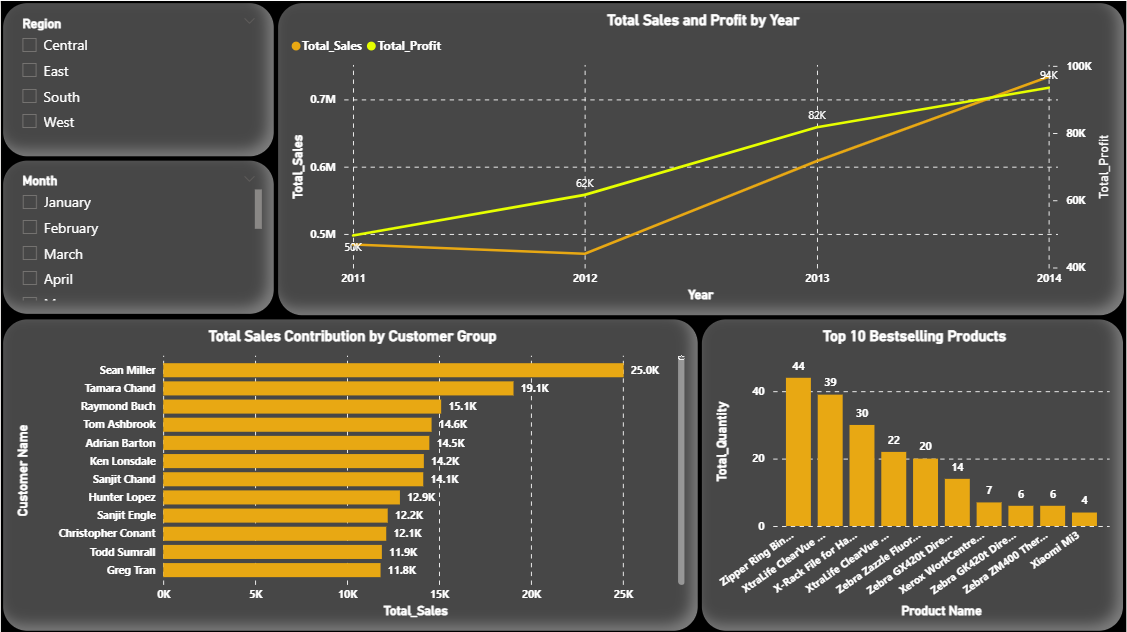

What the dashboard file says about the page in this screenshot:
{"tool":"powerbi","page":{"name":"Page 2","canvas":[1280,720],"ordinal":1},"visuals":[{"type":"lineChart","title":"Total Sales and Profit by Year","fields":{"Category":["Orders.Order Date.Variation.Date Hierarchy.Year","Orders.Order Date.Variation.Date Hierarchy.Quarter","Orders.Order Date.Variation.Date Hierarchy.Month","Orders.Order Date.Variation.Date Hierarchy.Day"],"Y":["Orders.Total_Sales"],"Y2":["Orders.Total_Profit"]},"box":[312.9,0,967.1,359.8],"z":0},{"type":"barChart","title":"Total Sales Contribution by Customer Group","fields":{"Category":["Orders.Customer Name"],"Y":["Orders.Total_Sales"]},"box":[0,359.5,795.6,359.5],"z":1000},{"type":"slicer","fields":{"Values":["Orders.Region"]},"box":[0,0,312.9,179.2],"z":2000},{"type":"slicer","fields":{"Values":["Orders.Order Date.Variation.Date Hierarchy.Month"]},"box":[0,179.2,312.9,179.2],"z":3000},{"type":"clusteredColumnChart","title":"Top 10 Bestselling Products","fields":{"Category":["Orders.Product Name"],"Y":["Orders.Total_Quantity"]},"box":[795.6,359.5,484.1,359.5],"z":4000}]}

Visuals, with their boxes in screenshot pixels (x1, y1, x2, y2), scaled from the page's 1280x720 canvas onto the 1127x632 screenshot:
"Total Sales and Profit by Year" lineChart: [left=275, top=0, right=1126, bottom=316]
"Total Sales Contribution by Customer Group" barChart: [left=0, top=316, right=701, bottom=631]
slicer - Orders.Region: [left=0, top=0, right=275, bottom=157]
slicer - Orders.Order Date.Variation.Date Hierarchy.Month: [left=0, top=157, right=275, bottom=315]
"Top 10 Bestselling Products" clusteredColumnChart: [left=701, top=316, right=1126, bottom=631]
